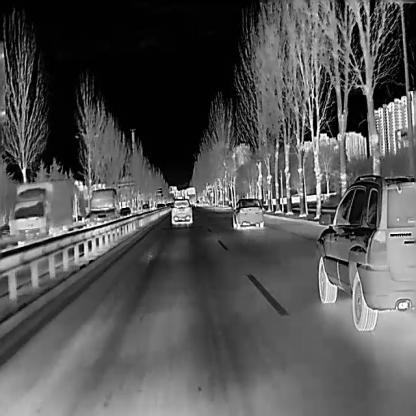car: (318, 171, 416, 329), (231, 196, 264, 229), (170, 197, 192, 224), (119, 206, 131, 220), (140, 201, 150, 212), (154, 202, 161, 212)
truck: (11, 180, 73, 248), (89, 186, 118, 228)
